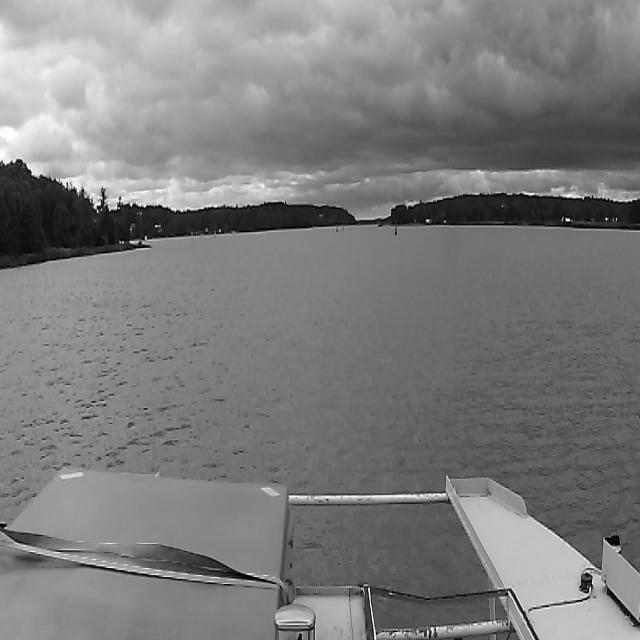buoy: (191, 231, 195, 251), (395, 222, 397, 236), (336, 224, 338, 234)
